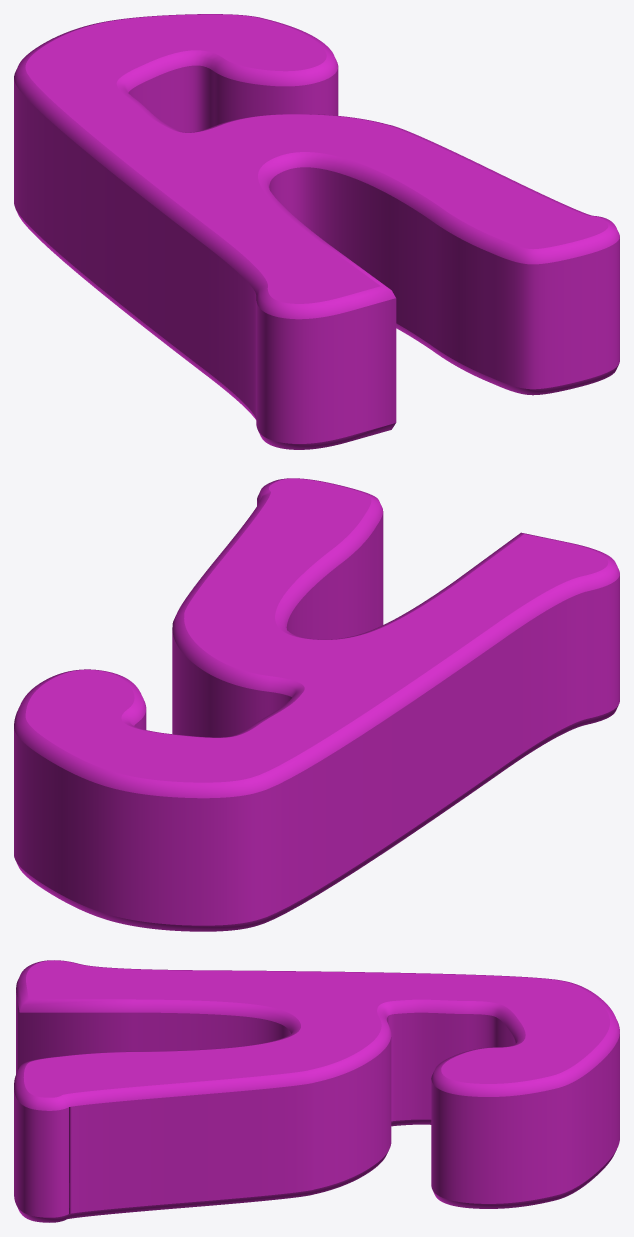
Rendered from Bubble_Letter_y.fbx.
The picture shows the model from 3 angles, top to bottom: view 1: azimuth 30°, elevation 25°; view 2: azimuth 150°, elevation 25°; view 3: azimuth 270°, elevation 25°; orthographic projection. The views are drawn at different scales.
Visible parts, largest first — view 1: BubbleLetter_y; view 2: BubbleLetter_y; view 3: BubbleLetter_y.
Boxes of the visible parts, x1,y1,x2,y2 form: BubbleLetter_y: [14, 14, 619, 449]; BubbleLetter_y: [14, 478, 619, 931]; BubbleLetter_y: [14, 960, 619, 1222].
Bounding box in the file's own units: 0.3507 × 0.14 × 0.6167.
